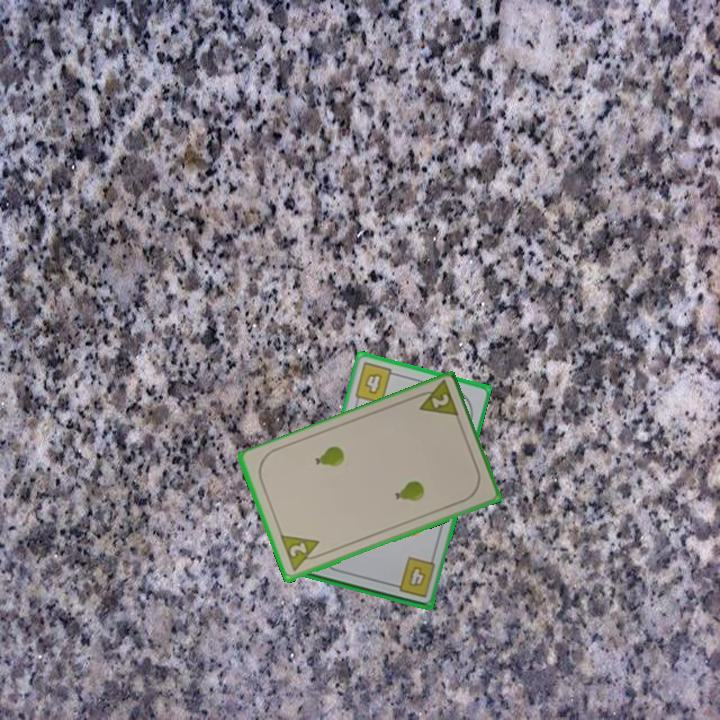2p: (410, 378, 462, 421), (276, 532, 327, 575)
4b: (351, 359, 401, 407), (388, 554, 438, 600)
